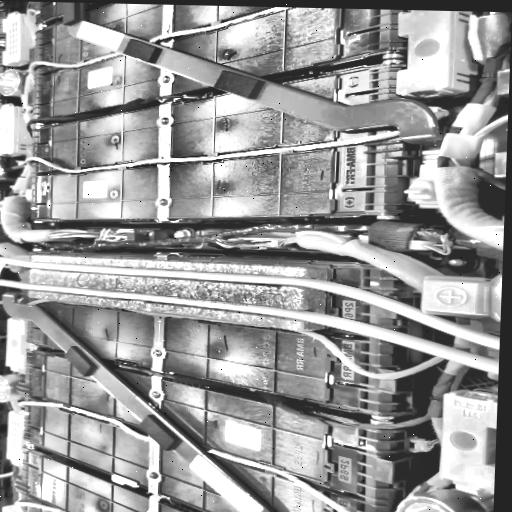busbar: (0, 291, 274, 512), (63, 1, 441, 144)
high_volt_cable: (0, 279, 499, 374), (20, 398, 434, 512), (0, 128, 403, 245), (0, 257, 500, 350), (11, 6, 314, 105), (399, 92, 508, 250)
low_volt_cable: (27, 219, 407, 256)
